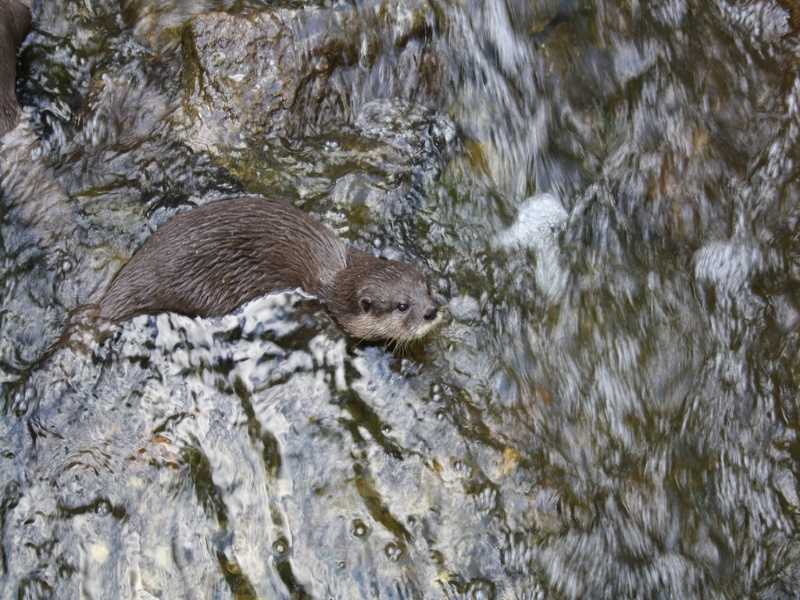minkish: (90, 189, 446, 358)
